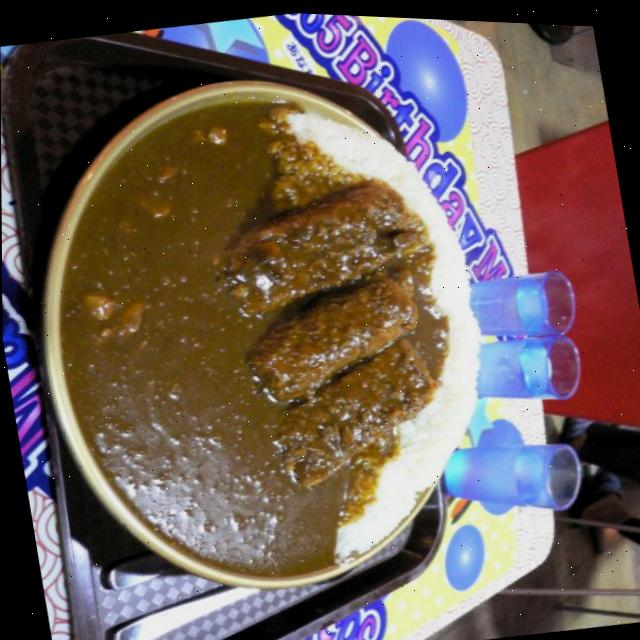猪肉菜式: (0, 15, 529, 638)
